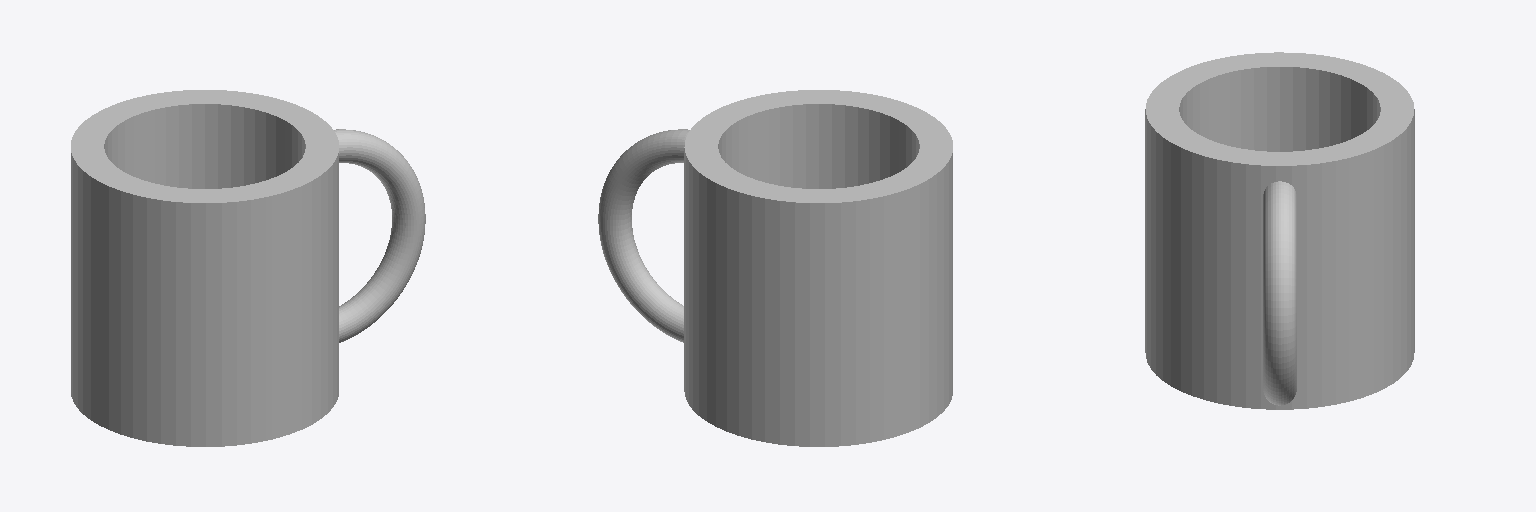
The model's file is TechniqueAObject.obj.
The picture shows the model from 3 angles: view 1: azimuth 30°, elevation 25°; view 2: azimuth 150°, elevation 25°; view 3: azimuth 270°, elevation 25°; orthographic projection.
Visible parts, largest first — view 1: TechniqueAObject; view 2: TechniqueAObject; view 3: TechniqueAObject.
Boxes of the visible parts, x1=… form: TechniqueAObject: x1=71, y1=90, x2=425, y2=446; TechniqueAObject: x1=598, y1=90, x2=952, y2=446; TechniqueAObject: x1=1145, y1=52, x2=1414, y2=409.
Bounding box in the file's own units: 2.87 × 2 × 2.